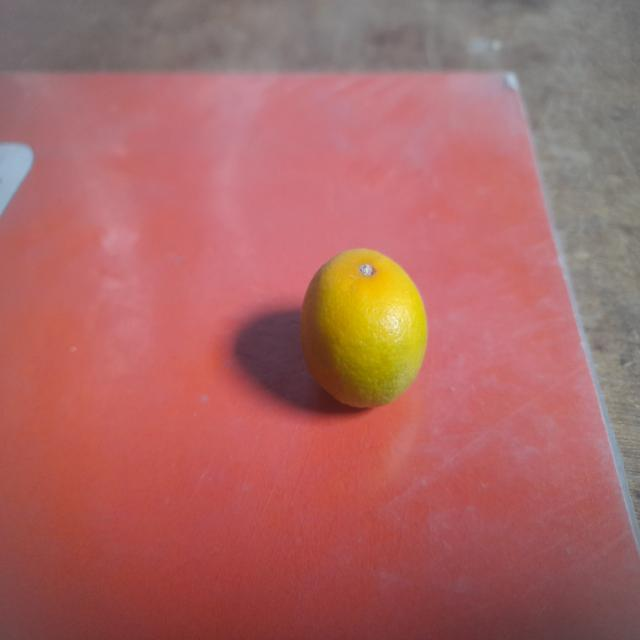greening: (305, 245, 430, 411)
